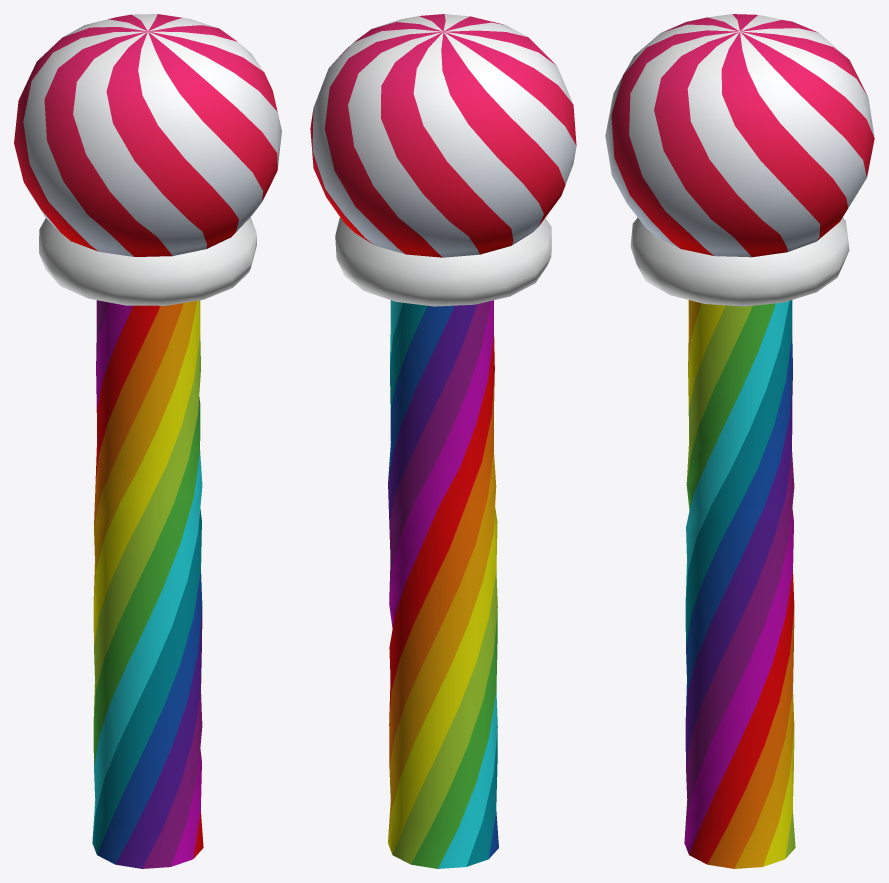
File: obstacle_6_001.glb
3 views of the same model, side by side, from view 1: azimuth 30°, elevation 25°; view 2: azimuth 150°, elevation 25°; view 3: azimuth 270°, elevation 25° (orthographic).
Visible parts, largest first — view 1: obstacle_6_002, obstacle_6_001; view 2: obstacle_6_002, obstacle_6_001; view 3: obstacle_6_002, obstacle_6_001.
Part boxes in pixels (box(x1,y1,x2,y2)): obstacle_6_002: box(14, 14, 281, 305); obstacle_6_001: box(92, 300, 203, 868); obstacle_6_002: box(310, 14, 576, 306); obstacle_6_001: box(388, 300, 498, 868); obstacle_6_002: box(605, 14, 874, 306); obstacle_6_001: box(684, 300, 795, 868).
Size of the model in its own units: 2.94 by 9.81 by 2.94.
Materials: 1 (1 with a texture image).
